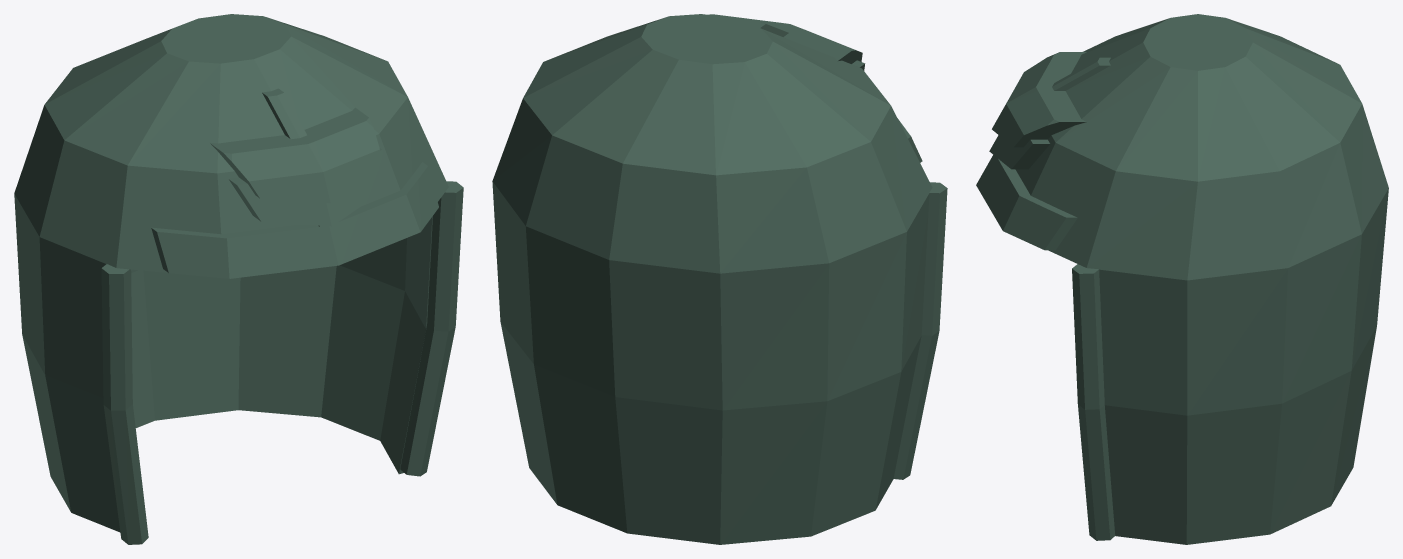
Rendered from leather_head-female-scaledHide.glb.
3 renders of one model, left to right at view 1: azimuth 30°, elevation 25°; view 2: azimuth 150°, elevation 25°; view 3: azimuth 270°, elevation 25°, orthographic. The views are drawn at different scales.
Visible parts, largest first — view 1: leather joined crown and nape guard, Lapped hide reinforcement leather joined crown and nape guar (×2), Fitted brow binding, Bound face opening 1, Bound face opening -1, Cap crown sewn seam; view 2: leather joined crown and nape guard, Bound face opening -1, Lapped hide reinforcement leather joined crown and nape guar; view 3: leather joined crown and nape guard, Bound face opening 1, Lapped hide reinforcement leather joined crown and nape guar (×2), Fitted brow binding, Cap crown sewn seam.
Part boxes in pixels (left/top/right/bottom): leather joined crown and nape guard: left=14, top=14, right=448, bottom=532; Lapped hide reinforcement leather joined crown and nape guar (×2): left=210, top=107, right=382, bottom=226; Fitted brow binding: left=151, top=162, right=438, bottom=278; Bound face opening 1: left=400, top=181, right=463, bottom=476; Bound face opening -1: left=101, top=264, right=148, bottom=544; Cap crown sewn seam: left=262, top=88, right=325, bottom=226; leather joined crown and nape guard: left=492, top=14, right=932, bottom=544; Bound face opening -1: left=893, top=182, right=947, bottom=479; Lapped hide reinforcement leather joined crown and nape guar: left=708, top=14, right=862, bottom=63; leather joined crown and nape guard: left=1015, top=14, right=1388, bottom=544; Bound face opening 1: left=1072, top=264, right=1115, bottom=540; Lapped hide reinforcement leather joined crown and nape guar (×2): left=989, top=52, right=1086, bottom=169; Fitted brow binding: left=976, top=155, right=1077, bottom=250; Cap crown sewn seam: left=1052, top=57, right=1110, bottom=90.
Size of the model in its own units: 0.9998 by 1.08 by 0.9429.
